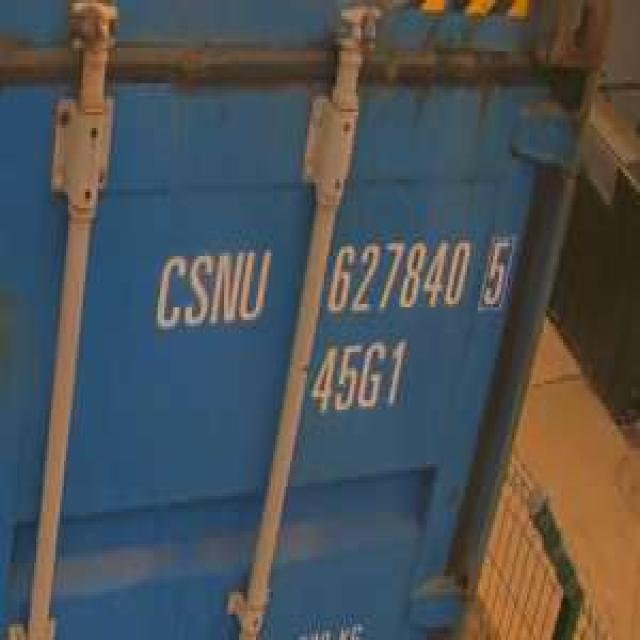dv: (478, 224, 516, 314)
owner: (147, 234, 273, 332)
serial: (324, 227, 470, 320)
size: (307, 330, 410, 419)
